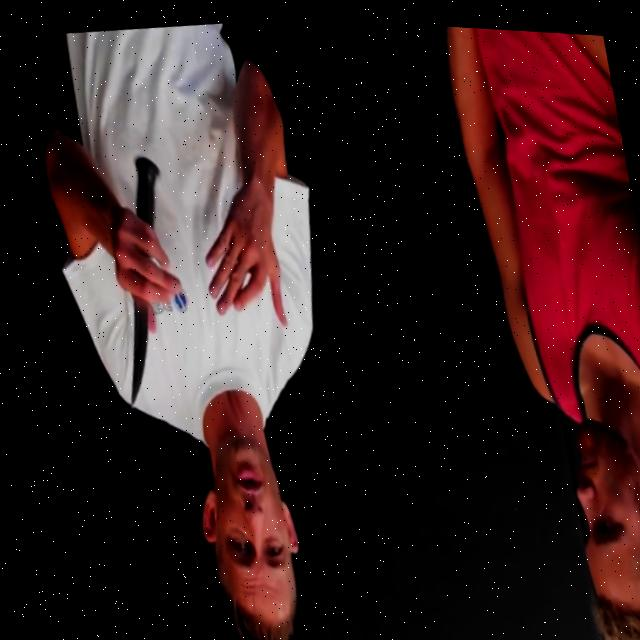knife: (105, 292, 160, 410)
